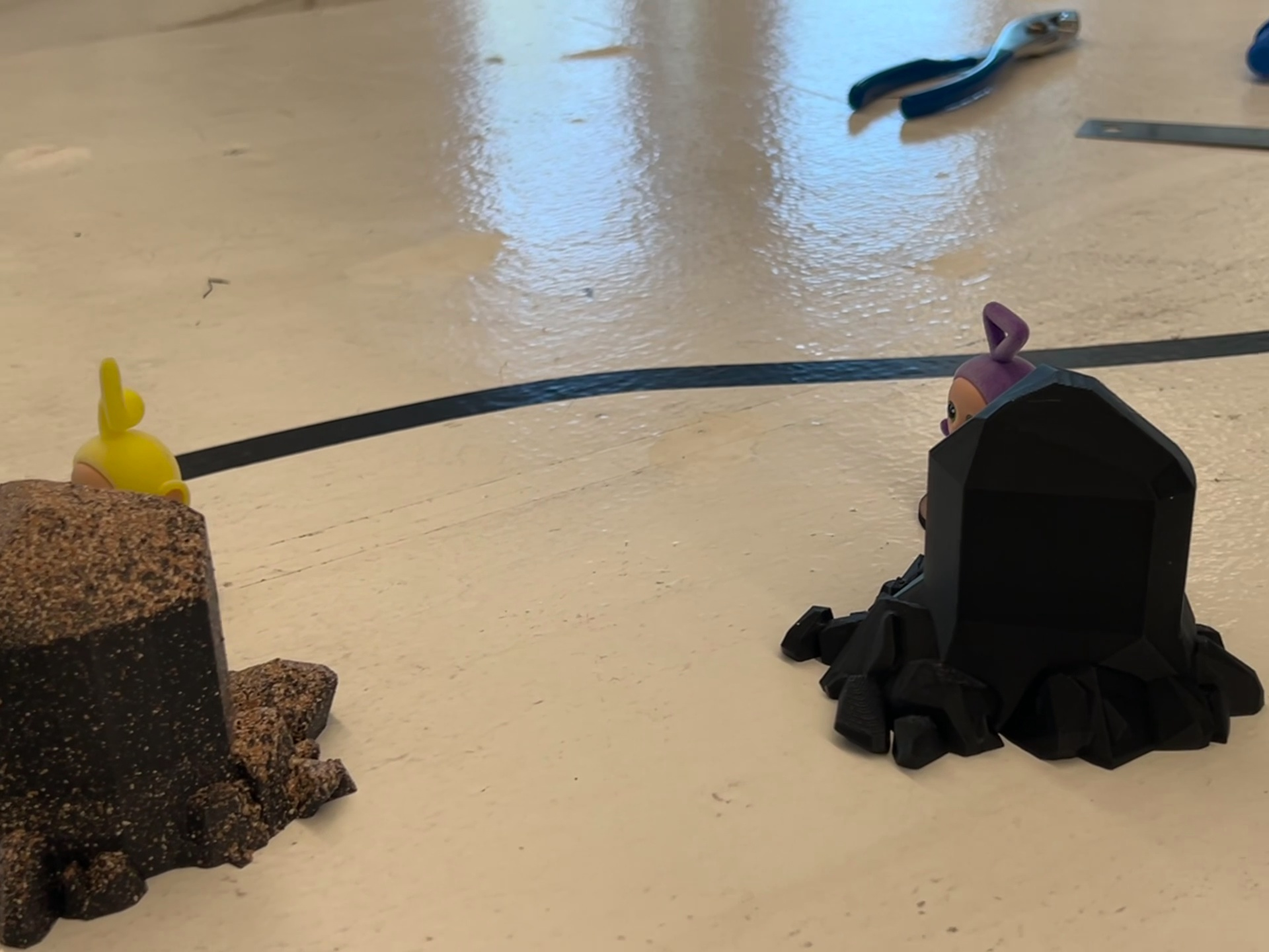teletubby: (71, 358, 190, 505), (941, 302, 1035, 436)
